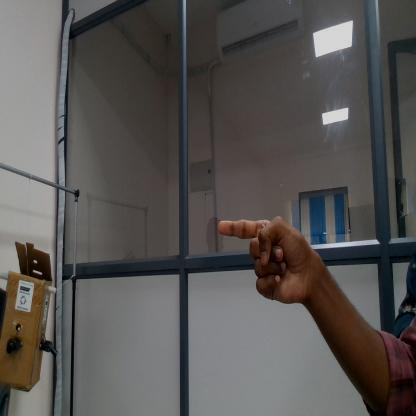Right: (212, 202, 315, 316)
